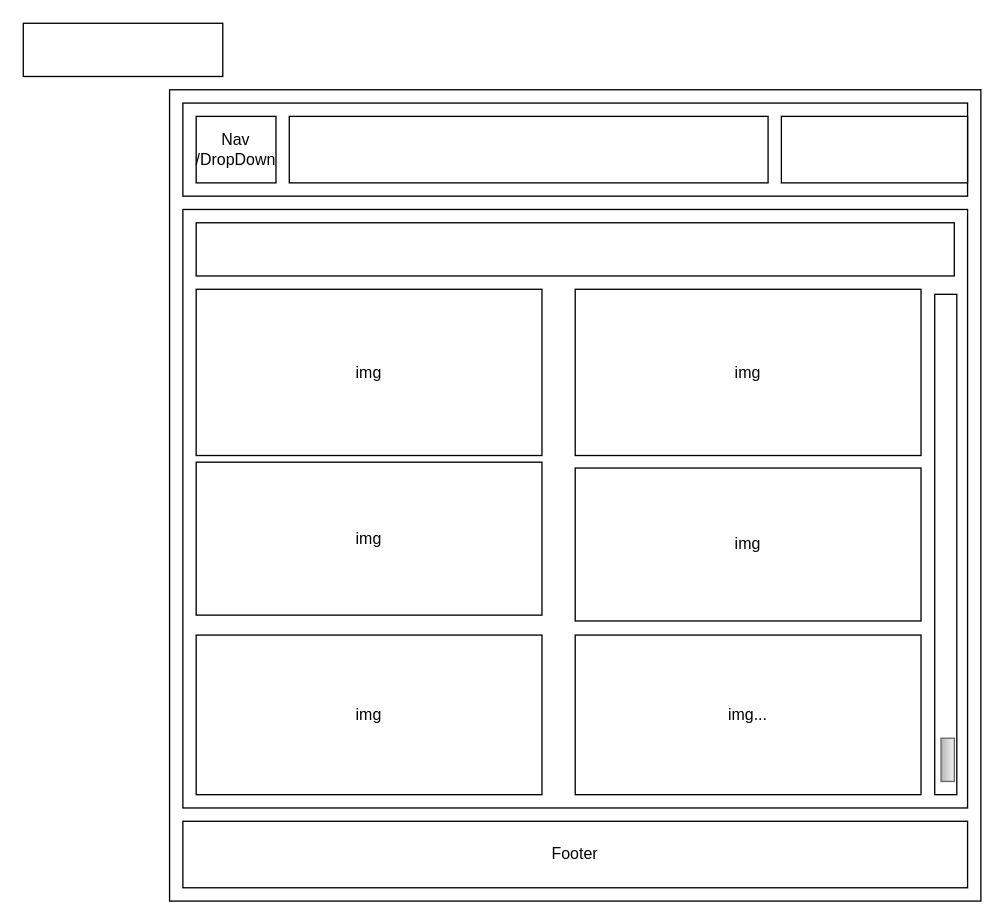
The diagram is 1004 pixels wide and 924 high, and some of its shapes have lost their labels. The centre of each missing label's shape, as x and y in pixels:
"Antoine" belongs at pixel 122 49.
"GALLERY" belongs at pixel 574 248.
"Langue Ou date" belongs at pixel 874 149.
"Titre /// Et lien de retour vers acceuil" belongs at pixel 528 149.
